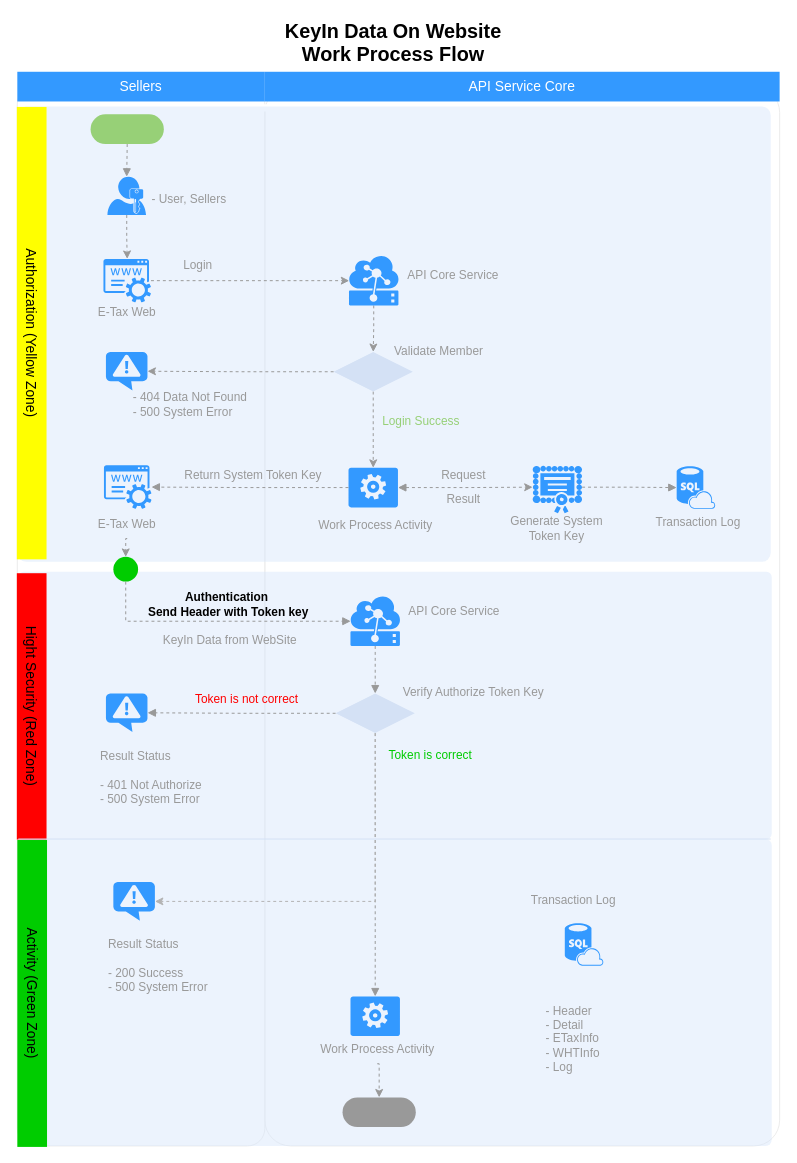
Image size: 797x1163. Some labels were removed from this diagram. Each missing label, with the centre of its shape:
End: the point at 378,1112
Start: the point at 126,129
